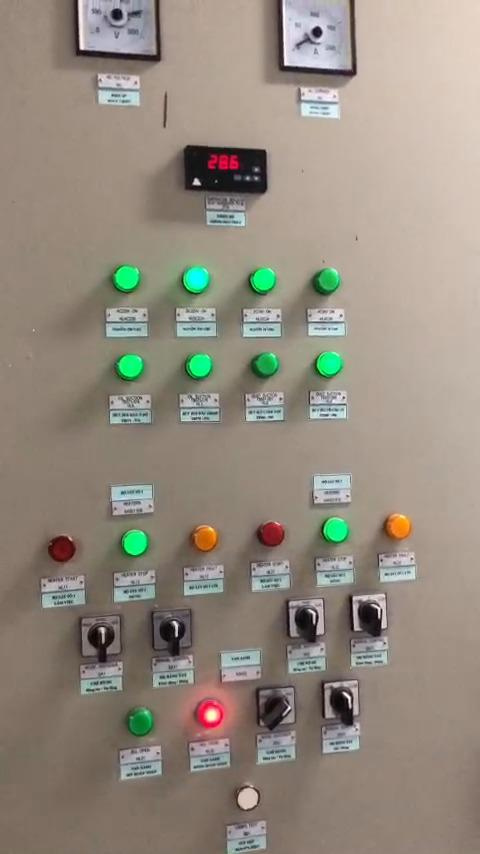led: (124, 706, 158, 739), (43, 534, 75, 564), (197, 701, 228, 731), (313, 266, 343, 296), (182, 265, 211, 294), (383, 514, 411, 544), (320, 516, 348, 546), (258, 520, 286, 550), (190, 525, 218, 555), (314, 351, 341, 381), (114, 265, 141, 294), (253, 351, 280, 380), (249, 268, 278, 294), (122, 529, 148, 558), (185, 354, 214, 379), (234, 786, 263, 810), (119, 354, 145, 379)
twist: (79, 615, 122, 660), (155, 606, 194, 650), (257, 688, 296, 732), (288, 599, 328, 640), (324, 681, 360, 724), (352, 592, 389, 632)
